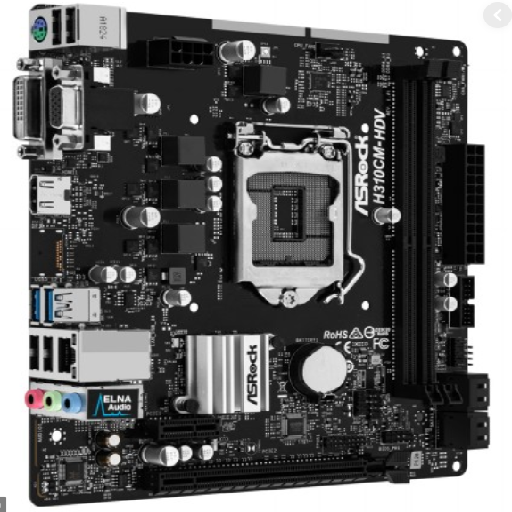CPU: (233, 121, 352, 309)
GPU: (147, 451, 409, 493)
MOTHERBOARD: (13, 5, 490, 503)
RAM: (390, 58, 463, 407)
